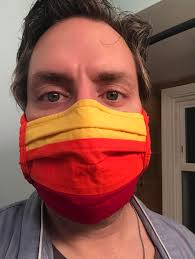with-mask: (11, 11, 157, 227)
